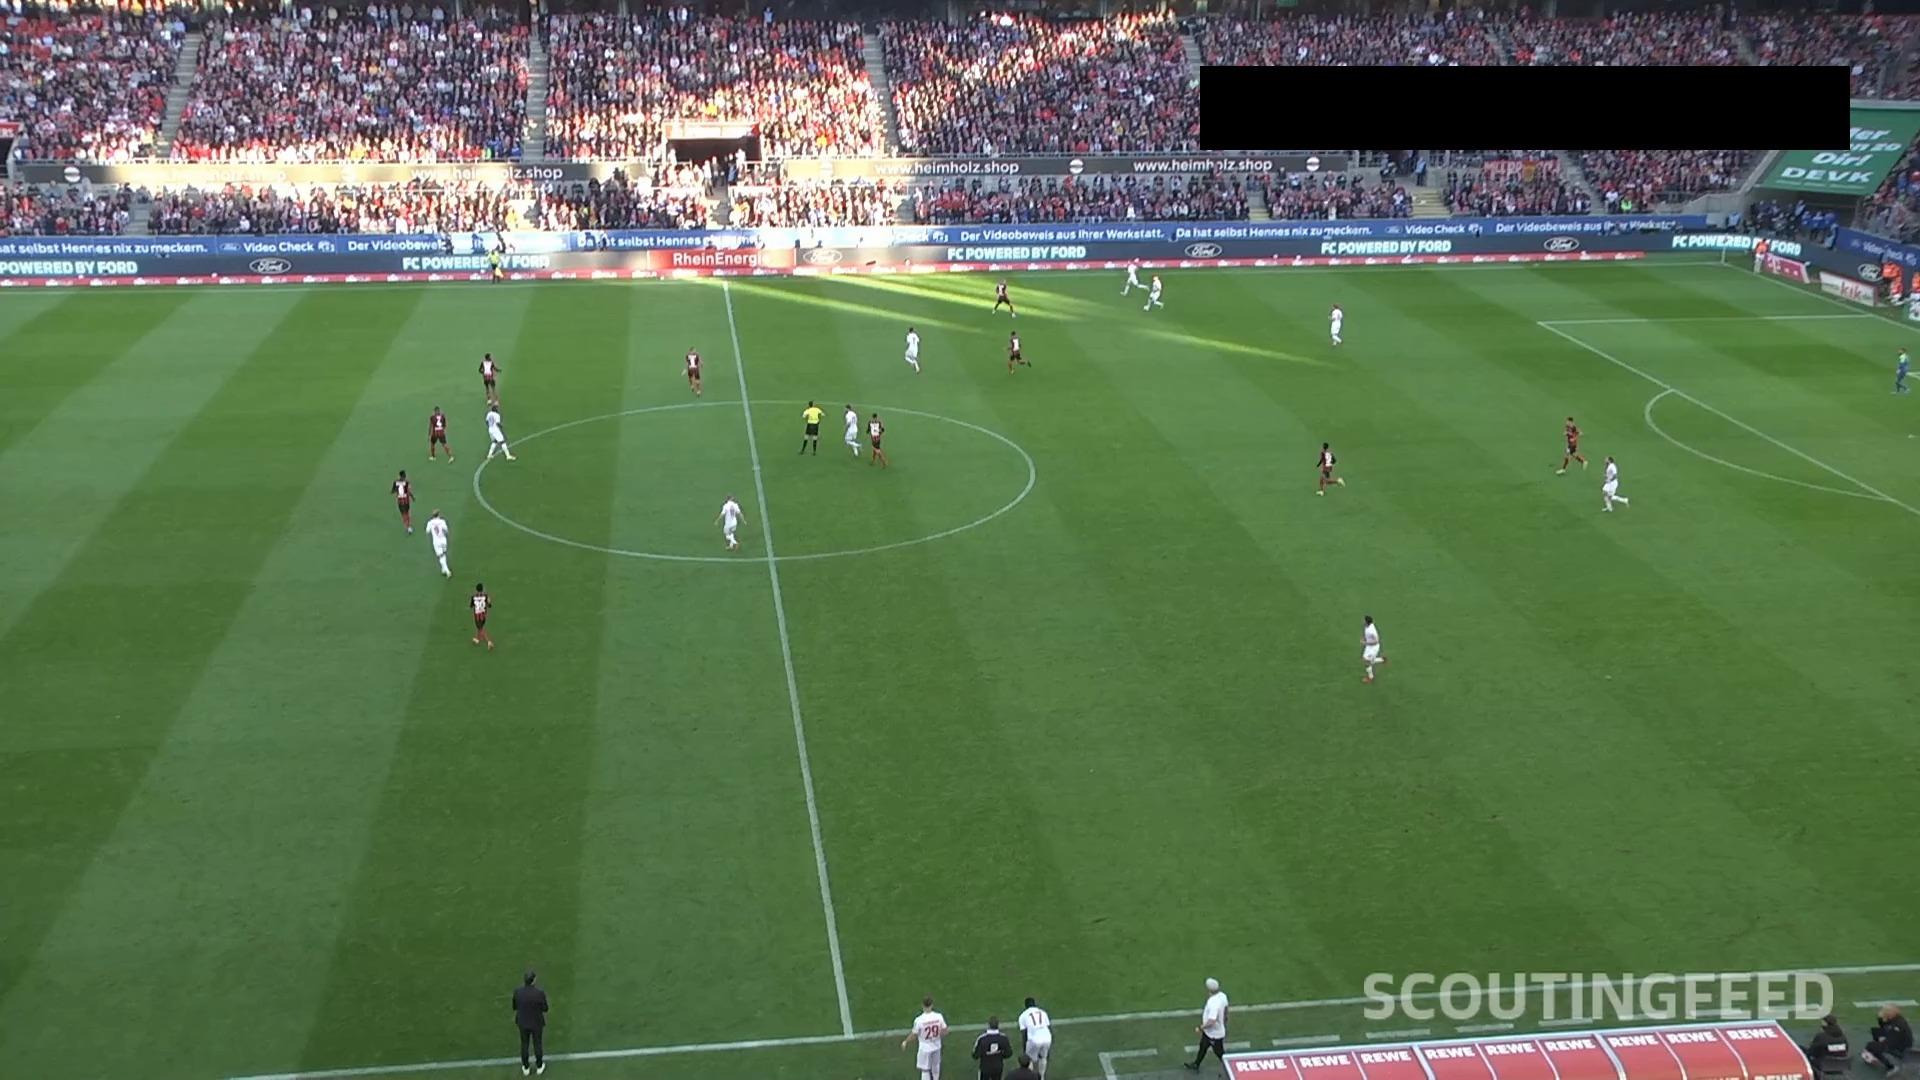ball: (1143, 305, 1150, 311)
